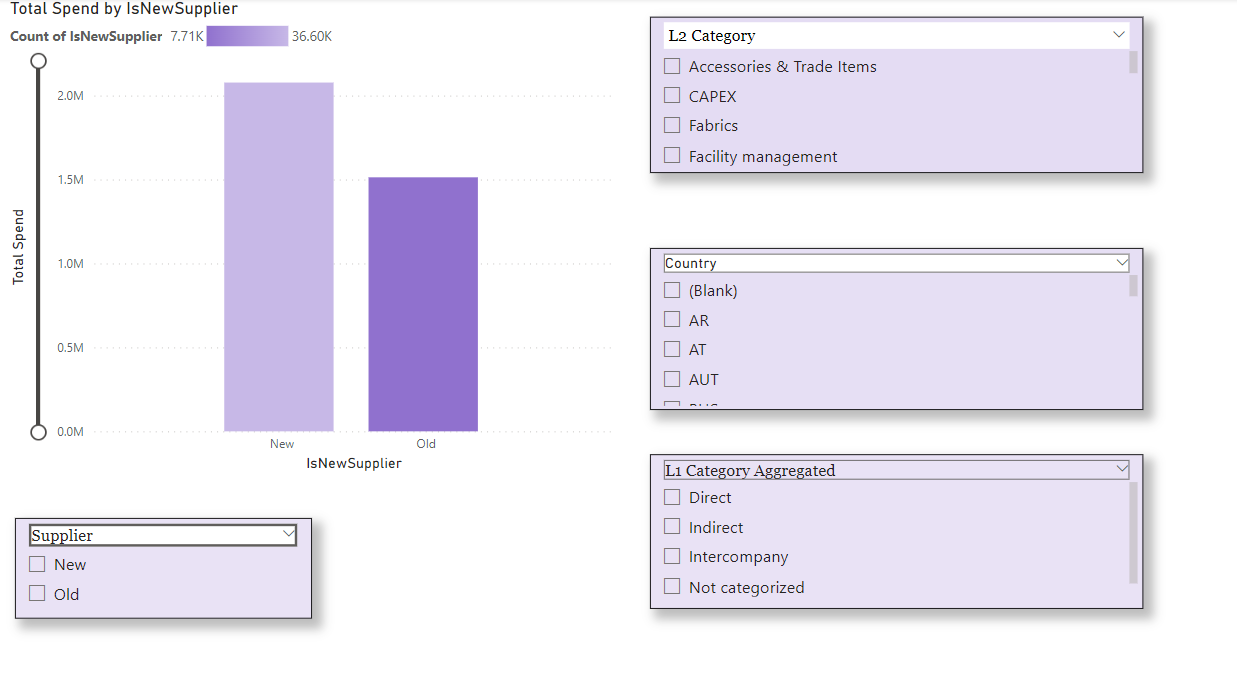

The dashboard page shown, as its layout file describes it:
{"tool":"powerbi","page":{"name":"Q4","canvas":[1280,720],"ordinal":3},"visuals":[{"type":"columnChart","fields":{"Category":["Merge1.IsNewSupplier"],"Y":["Merge1.Total Spend"]},"box":[10,0,600,467.5],"z":0},{"type":"slicer","fields":{"Values":["Merge1.IsNewSupplier"]},"box":[20,508.8,290,98.8],"z":1000},{"type":"slicer","title":"L2 Category","fields":{"Values":["Merge1.L2 Category Aggregated"]},"box":[640,18.8,482.5,152.5],"z":2000},{"type":"slicer","fields":{"Values":["Merge1.L1 Category Aggregated"]},"box":[640,446.2,482.5,151.2],"z":3000},{"type":"slicer","fields":{"Values":["Merge1.Country"]},"box":[640,245,482.5,158.8],"z":4000}]}

Visuals, with their boxes in screenshot pixels (x1, y1, x2, y2), scaled from the page's 1280x720 canvas onto the 1237x678 screenshot:
columnChart - Merge1.IsNewSupplier x Merge1.Total Spend: detection(10, 0, 590, 440)
slicer - Merge1.IsNewSupplier: detection(19, 479, 300, 572)
"L2 Category" slicer: detection(618, 18, 1085, 161)
slicer - Merge1.L1 Category Aggregated: detection(618, 420, 1085, 563)
slicer - Merge1.Country: detection(618, 231, 1085, 380)
